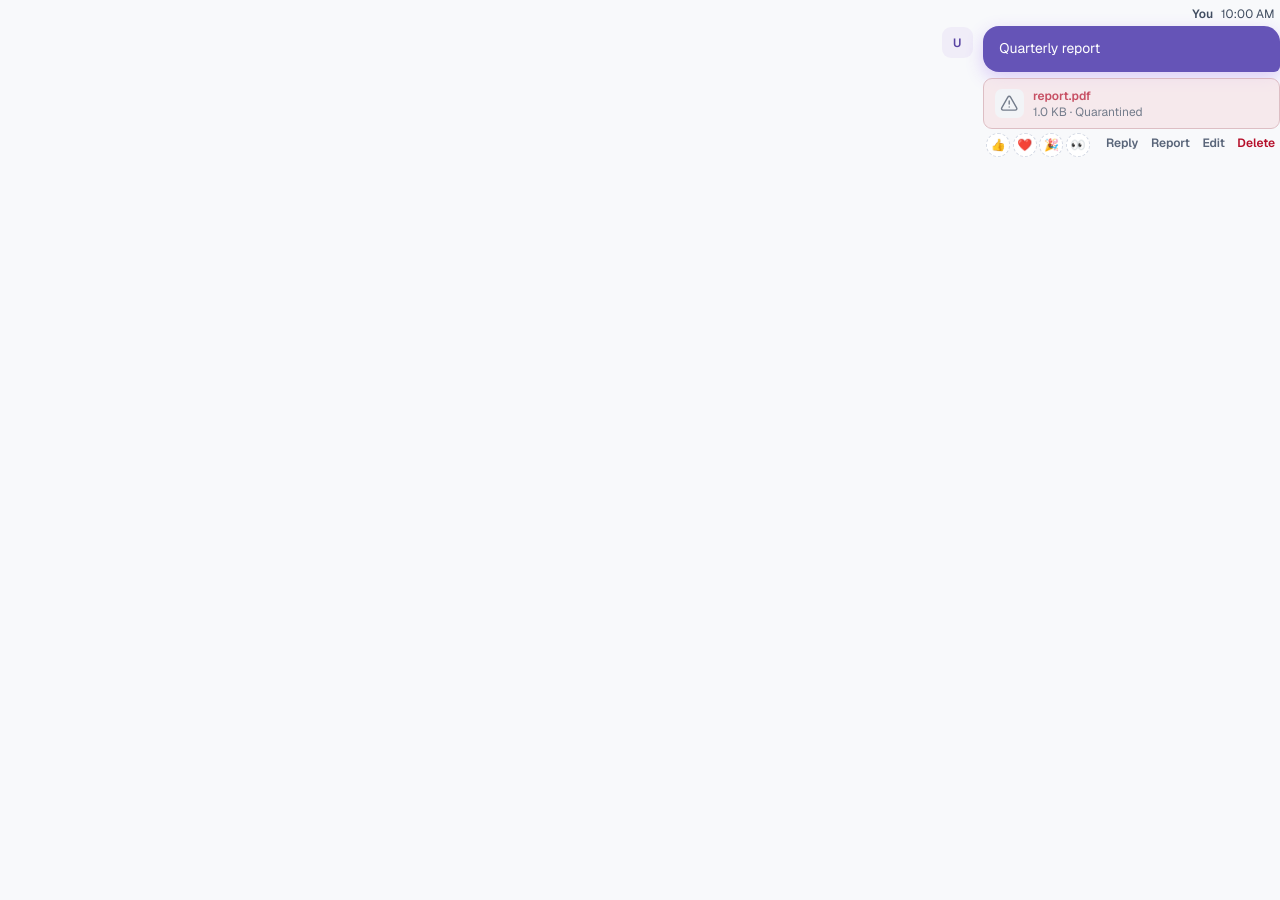
Test: MessageItem › confirms message deletion without a native browser prompt and restores focus on cancel
Click the button "Delete": (1256, 143) [1232,131,1279,155]
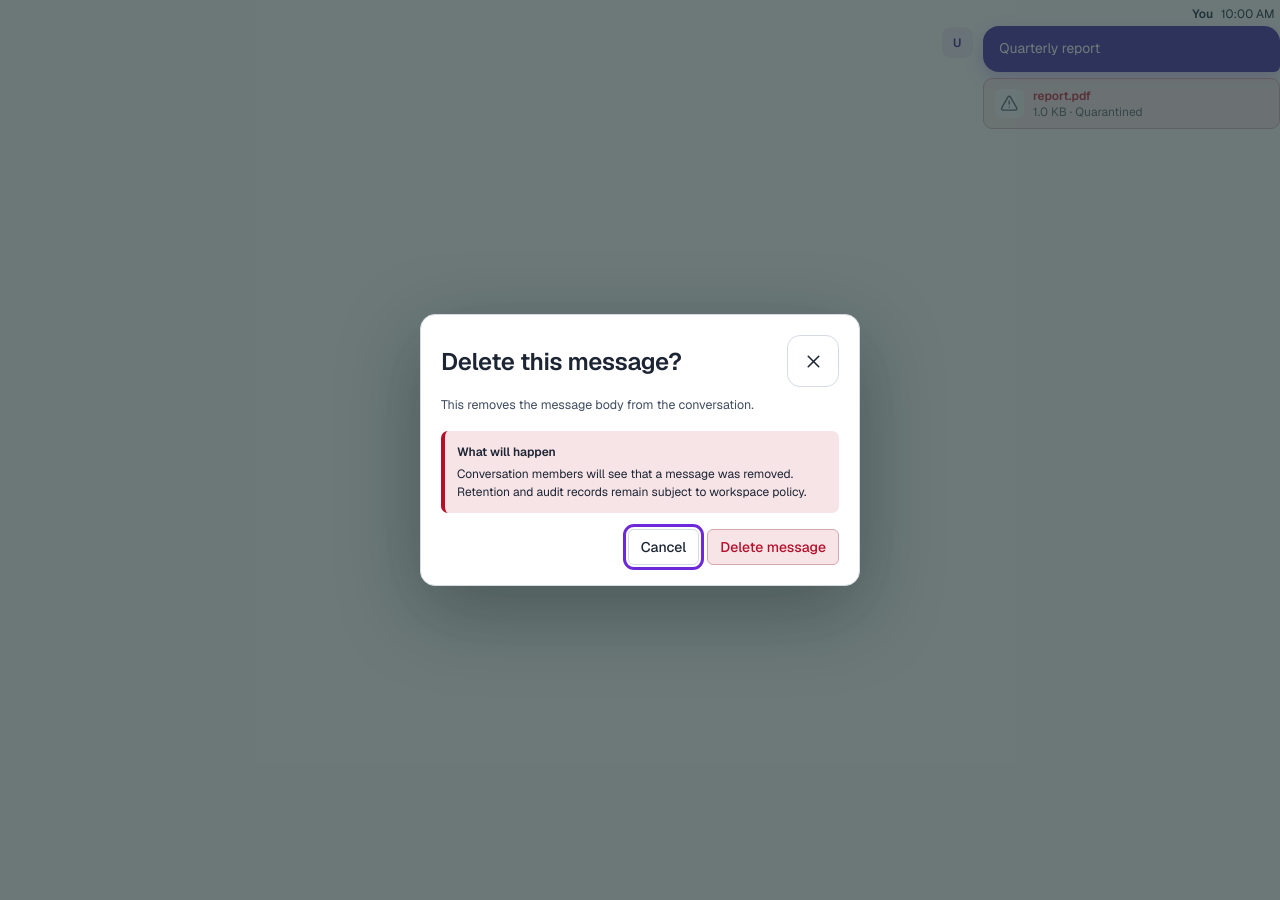
Expected: the dialog "Delete this message?" is shown, [420,314,860,586]
Click the button "Cancel": (664, 547) [628,529,699,565]
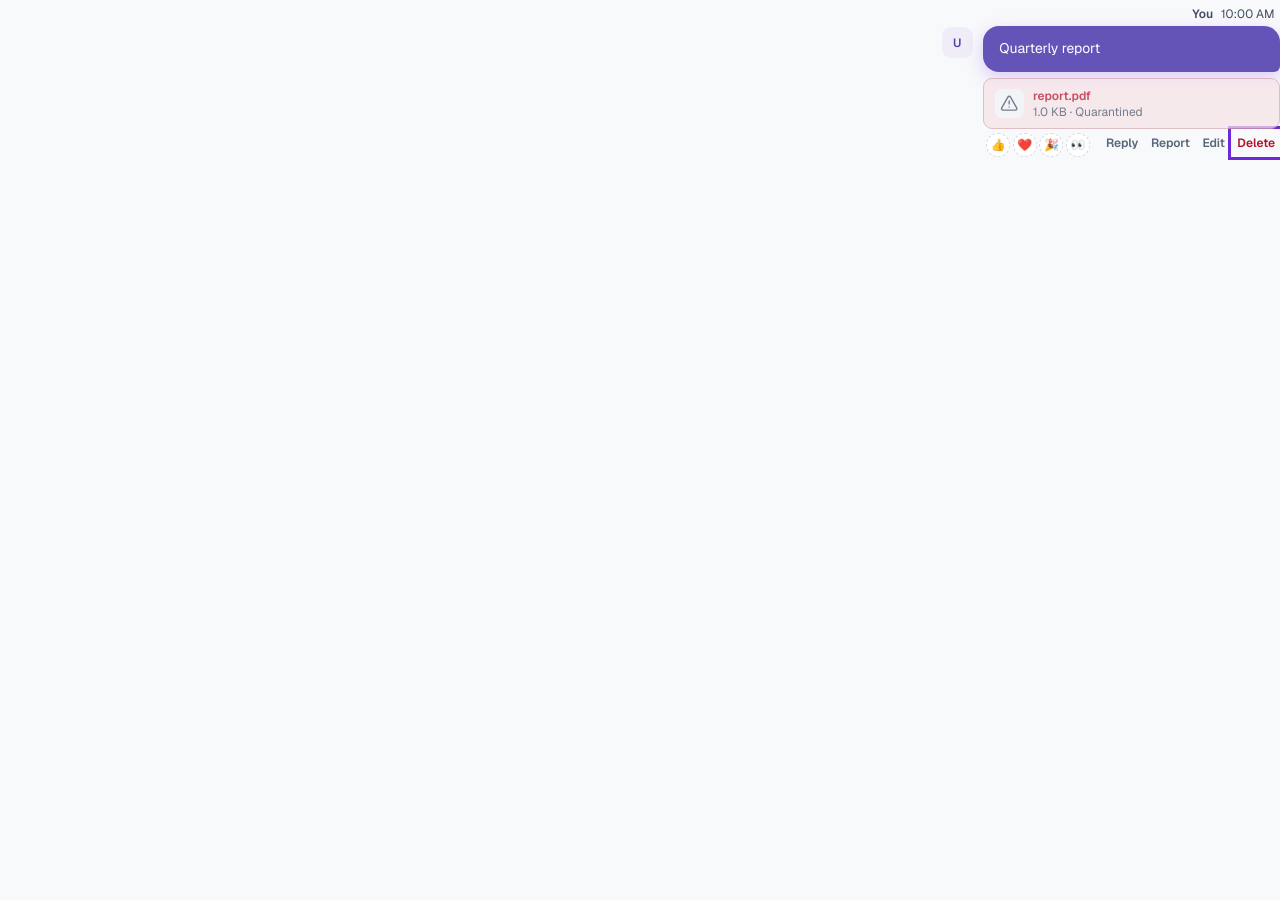
Click the button "Delete": (1256, 143) [1232,131,1279,155]
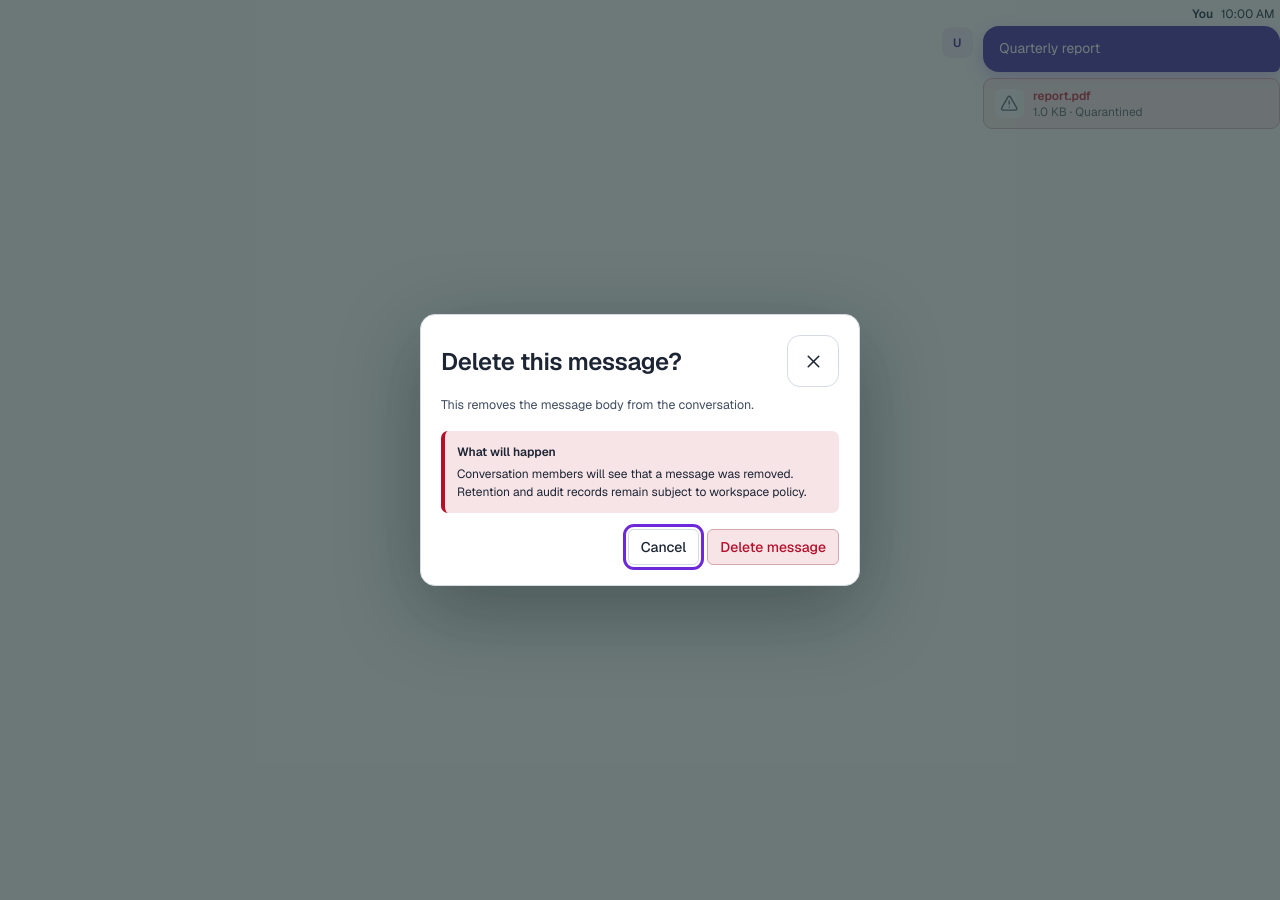
Click the button "Delete message": (773, 547) [707,529,839,565]
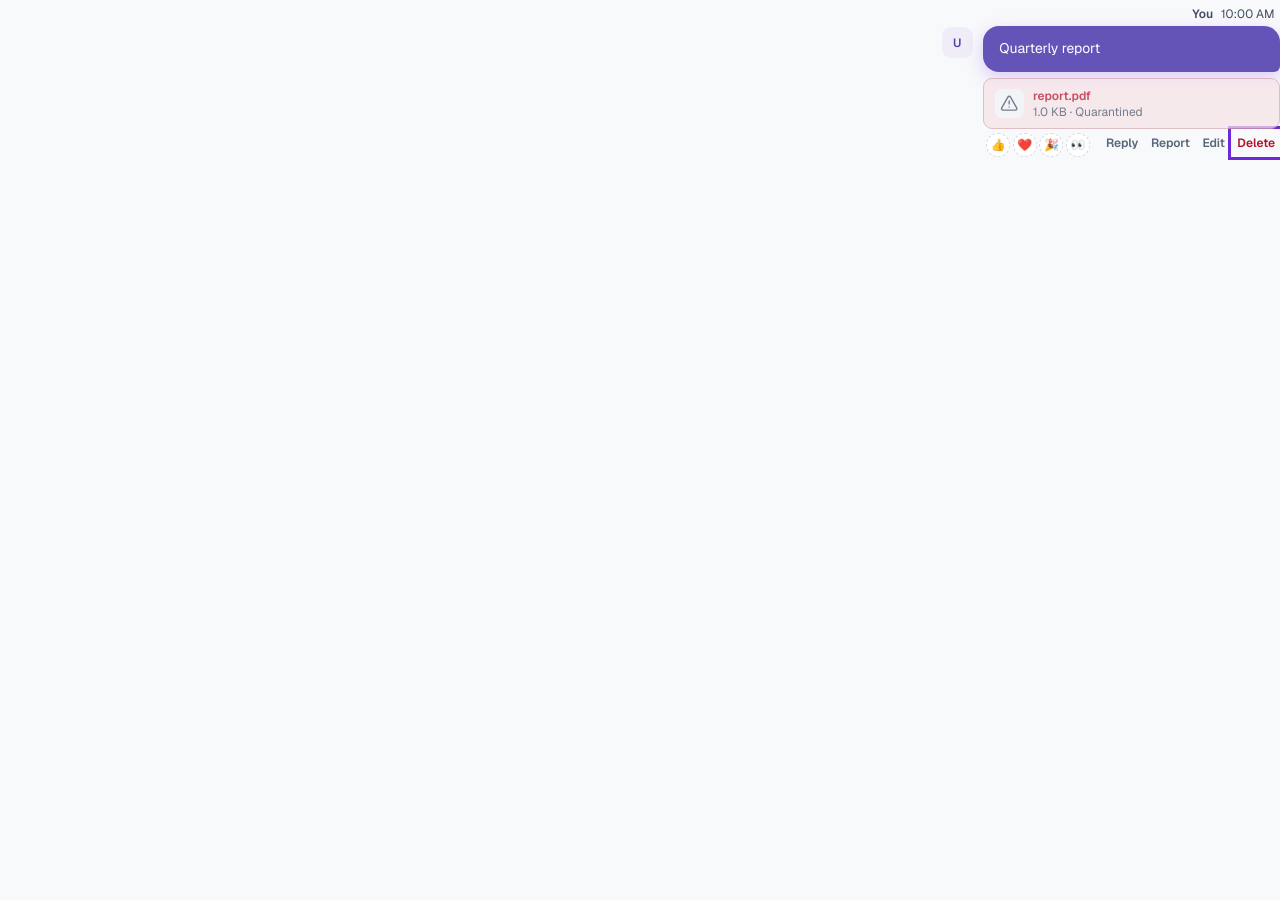
Expected: the dialog is gone
